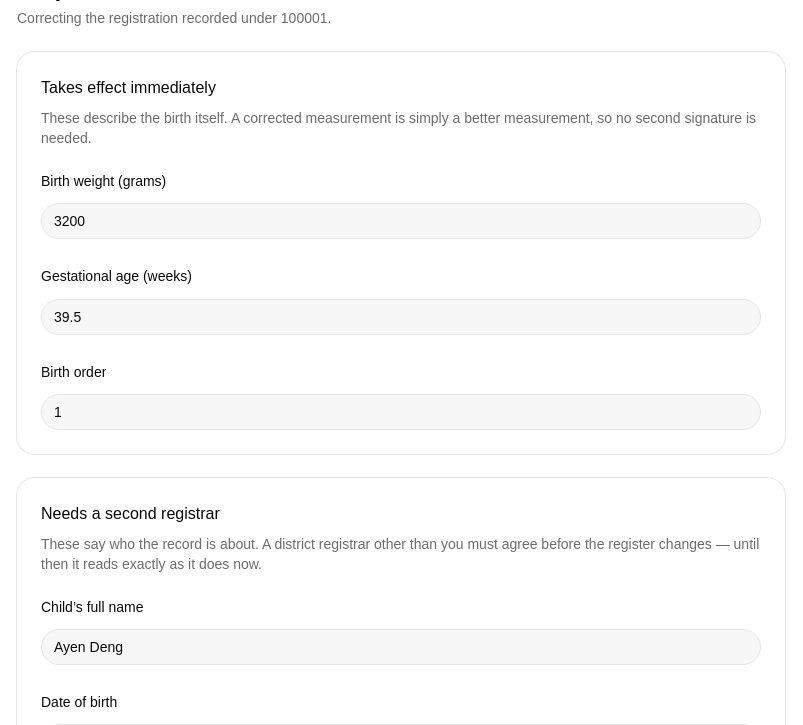
it: RequestCorrection › reports an immediate correction as already in effect
This screenshot has width=803, height=725.
Replace the text in the number field labelled "Birth weight (grams)" with "3350" at [401, 221], box [41,203,761,239]
(page scrolled)
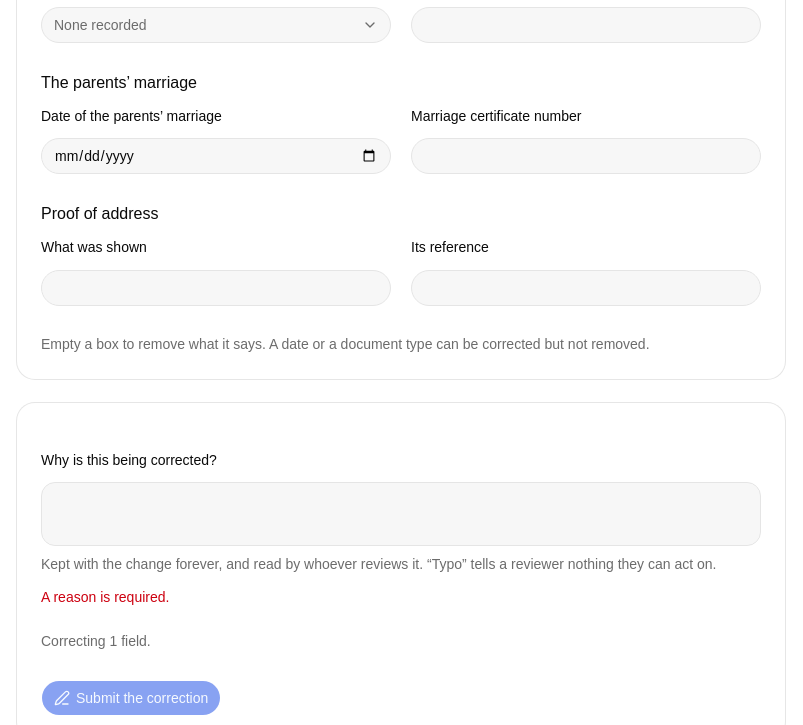
Type "Scale recalibrated." into the text box labelled "Why is this being corrected?" at [401, 514], box [41,482,761,546]
(page scrolled)
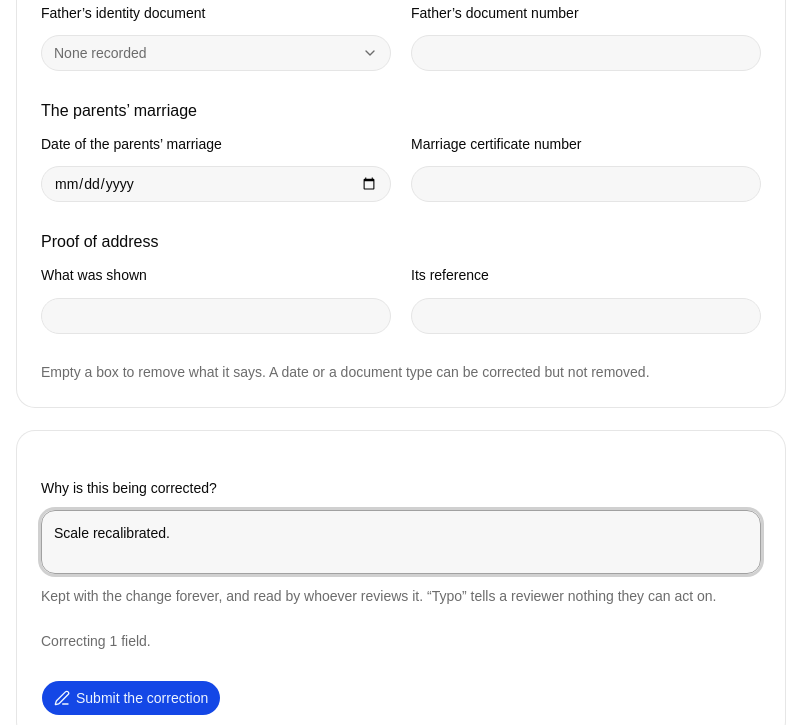
Click the button "Submit the correction" at [131, 698], box [41,680,221,716]
(page scrolled)
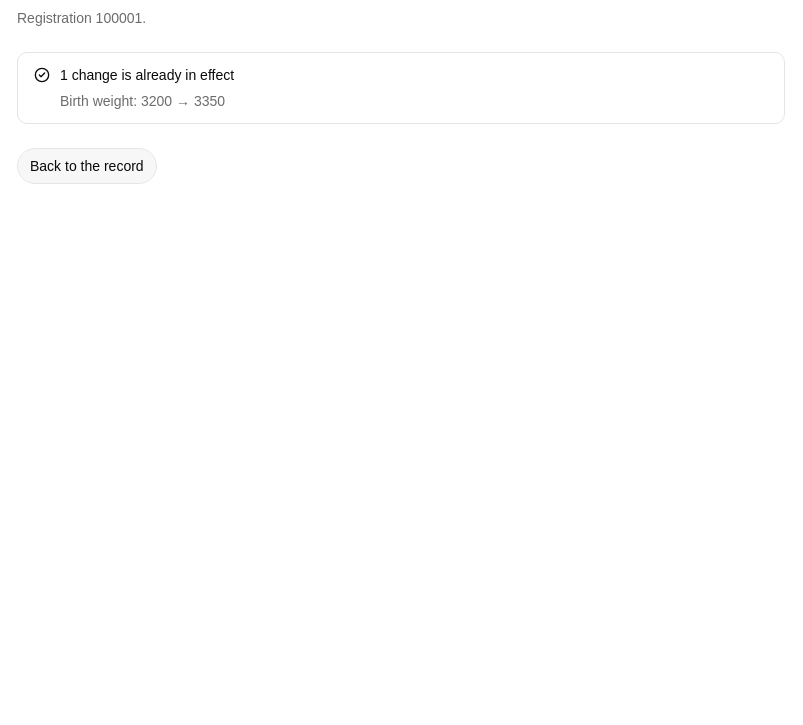
Expected: the text "1 change is already in effect" is shown, [60,67,234,83]
